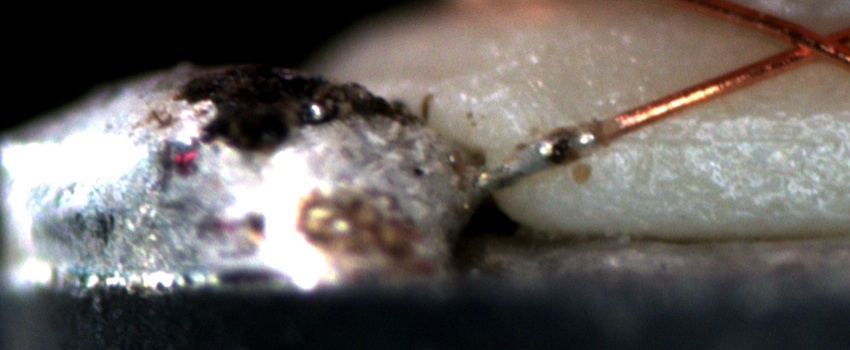CL: (770, 18, 844, 68)
DL: (617, 109, 850, 173)
TB: (526, 119, 597, 166)
TS: (477, 125, 599, 191)
TTCW: (466, 93, 676, 194)
